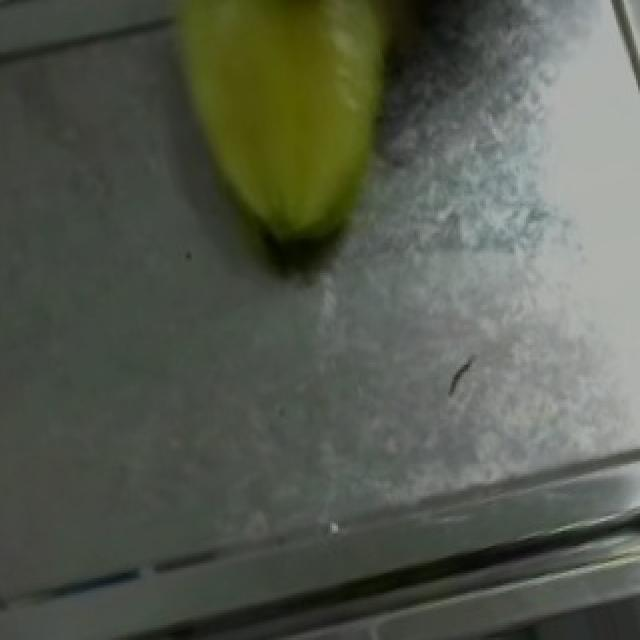fruit: (120, 0, 442, 280)
